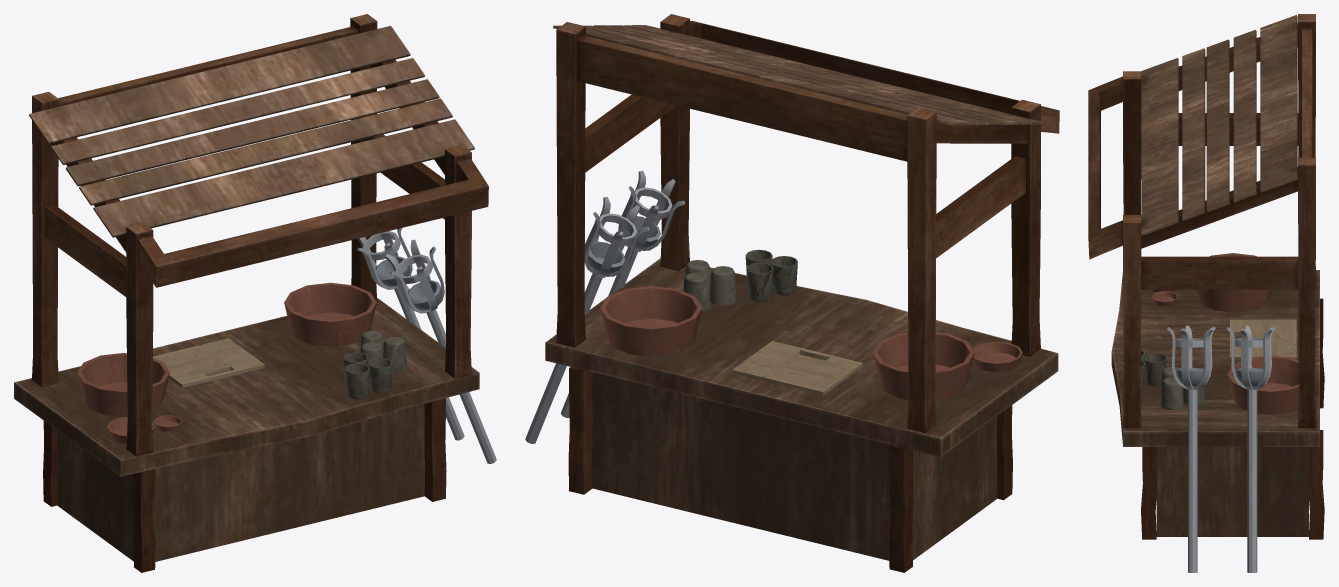
Rendered from stall_a.glb.
The picture shows the model from 3 angles, left to right: view 1: azimuth 30°, elevation 25°; view 2: azimuth 150°, elevation 25°; view 3: azimuth 270°, elevation 25°; orthographic projection. The views are drawn at different scales.
Visible parts, largest first — view 1: BaseBody_04, Market_04_Prop; view 2: BaseBody_04, Market_04_Prop; view 3: BaseBody_04, Market_04_Prop.
Boxes of the visible parts, x1,y1,x2,y2 form: BaseBody_04: [14, 14, 488, 572]; Market_04_Prop: [77, 228, 496, 463]; BaseBody_04: [545, 14, 1059, 572]; Market_04_Prop: [525, 171, 1022, 443]; BaseBody_04: [1088, 14, 1324, 539]; Market_04_Prop: [1122, 253, 1298, 572].
Size of the model in its own units: 314 by 301 by 168.
Materials: 2 (2 with a texture image).
